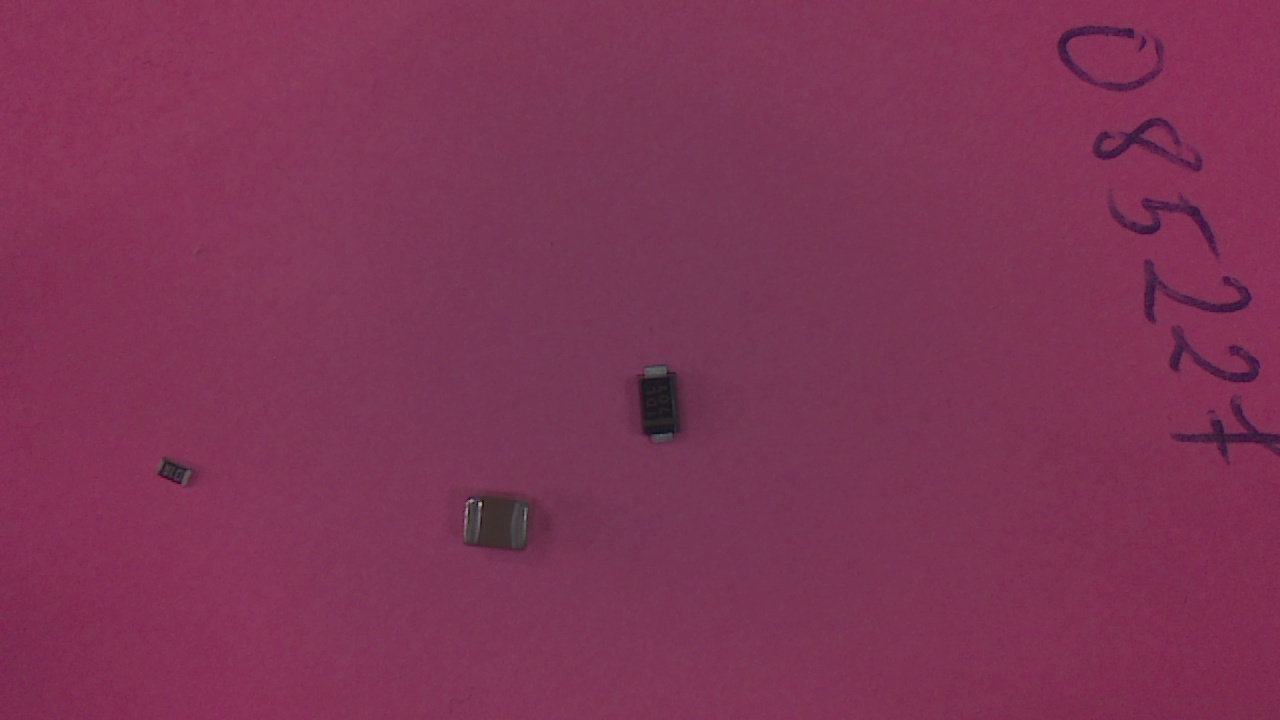Condensator: (460, 492, 529, 564)
Diode: (637, 366, 690, 452)
Resistor: (155, 463, 192, 495)
